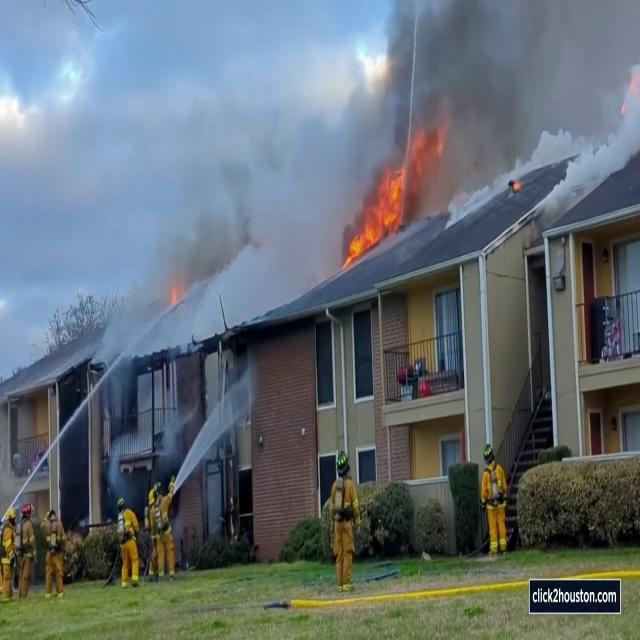Fire: (342, 143, 413, 262)
Smoke: (378, 0, 638, 209), (146, 54, 344, 316)
